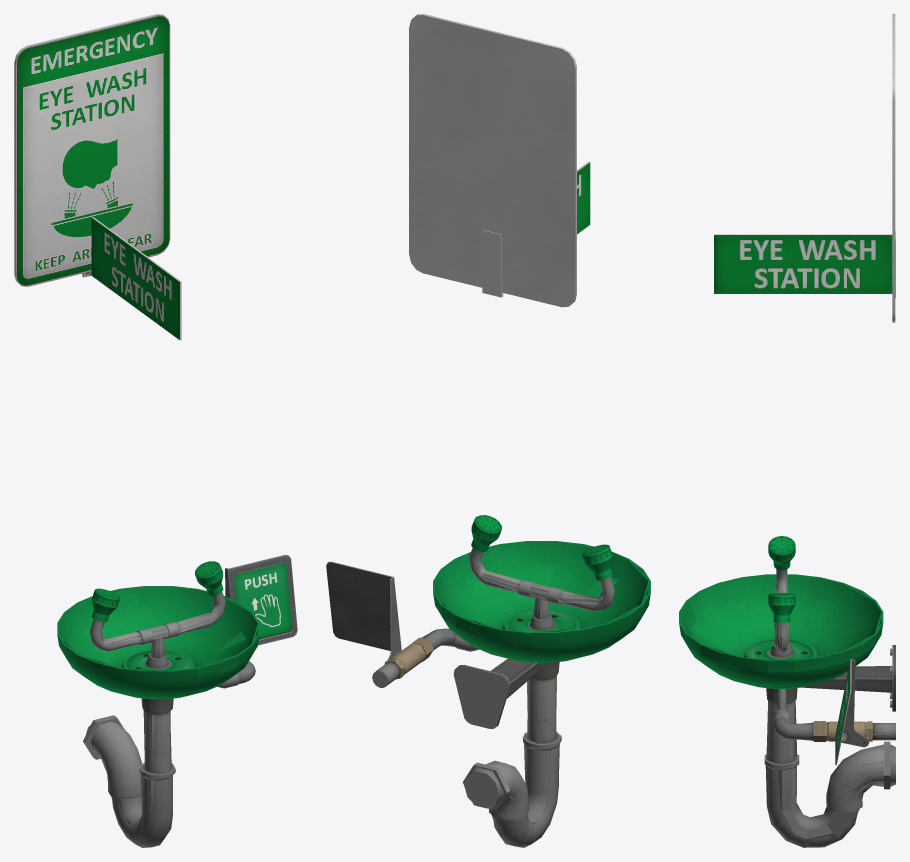
File: eyeWashStation.glb
The picture shows the model from 3 angles, left to right: view 1: azimuth 30°, elevation 25°; view 2: azimuth 150°, elevation 25°; view 3: azimuth 270°, elevation 25°; orthographic projection. The views are drawn at different scales.
Parts seen in each view (by area): view 1: eyewashstation_sign1_LOD0.3, eyewashstation_sink_LOD0_1.14, eyewashstation1_sink_LOD2_1.12, eyewashstation_sign2_LOD0.7, eyewashstation_sink_lever_LOD0.18, eyewashstation_sink_LOD1_1.16; view 2: eyewashstation_sign1_LOD0.3, eyewashstation_sink_LOD0_1.14, eyewashstation1_sink_LOD2_1.12, eyewashstation_sink_lever_LOD0.18, eyewashstation_sink_LOD1_1.16, eyewashstation_sign2_LOD0.7; view 3: eyewashstation_sink_LOD0_1.14, eyewashstation1_sink_LOD2_1.12, eyewashstation_sign2_LOD0.7, eyewashstation_sink_LOD1_1.16, eyewashstation_sink_lever_LOD0.18, eyewashstation_sign1_LOD0.3.
Boxes of the visible parts, <box> form: eyewashstation_sign1_LOD0.3: <box>14,14,170,286</box>; eyewashstation_sink_LOD0_1.14: <box>57,561,259,847</box>; eyewashstation1_sink_LOD2_1.12: <box>57,568,259,820</box>; eyewashstation_sign2_LOD0.7: <box>82,217,181,340</box>; eyewashstation_sink_lever_LOD0.18: <box>225,554,297,645</box>; eyewashstation_sink_LOD1_1.16: <box>58,586,259,825</box>; eyewashstation_sign1_LOD0.3: <box>409,14,576,307</box>; eyewashstation_sink_LOD0_1.14: <box>372,515,650,847</box>; eyewashstation1_sink_LOD2_1.12: <box>372,516,648,822</box>; eyewashstation_sink_lever_LOD0.18: <box>326,561,401,659</box>; eyewashstation_sink_LOD1_1.16: <box>381,523,650,824</box>; eyewashstation_sign2_LOD0.7: <box>482,161,590,297</box>; eyewashstation_sink_LOD0_1.14: <box>679,536,895,847</box>; eyewashstation1_sink_LOD2_1.12: <box>679,549,895,847</box>; eyewashstation_sign2_LOD0.7: <box>714,230,895,298</box>; eyewashstation_sink_LOD1_1.16: <box>679,541,891,847</box>; eyewashstation_sink_lever_LOD0.18: <box>835,659,869,765</box>; eyewashstation_sign1_LOD0.3: <box>892,14,895,322</box>.
Size of what is drawn, in the model's own units: 5.74 by 16.98 by 4.2.
Materials: 6 (6 with a texture image).
